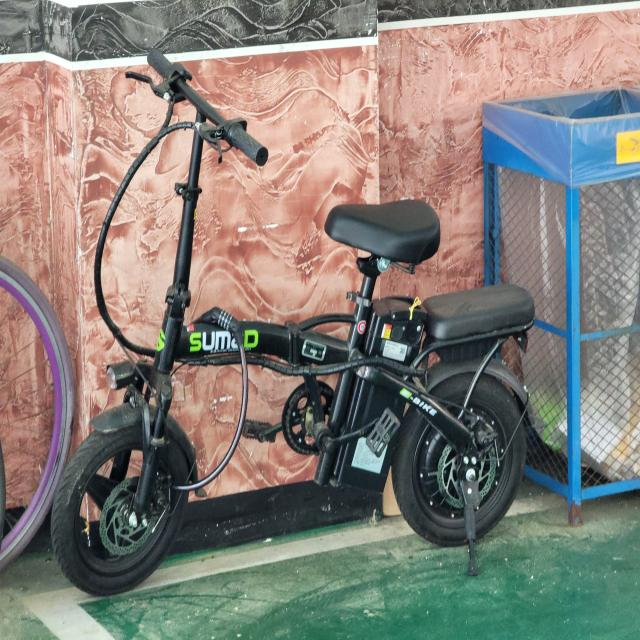bicycle: (50, 47, 534, 596)
